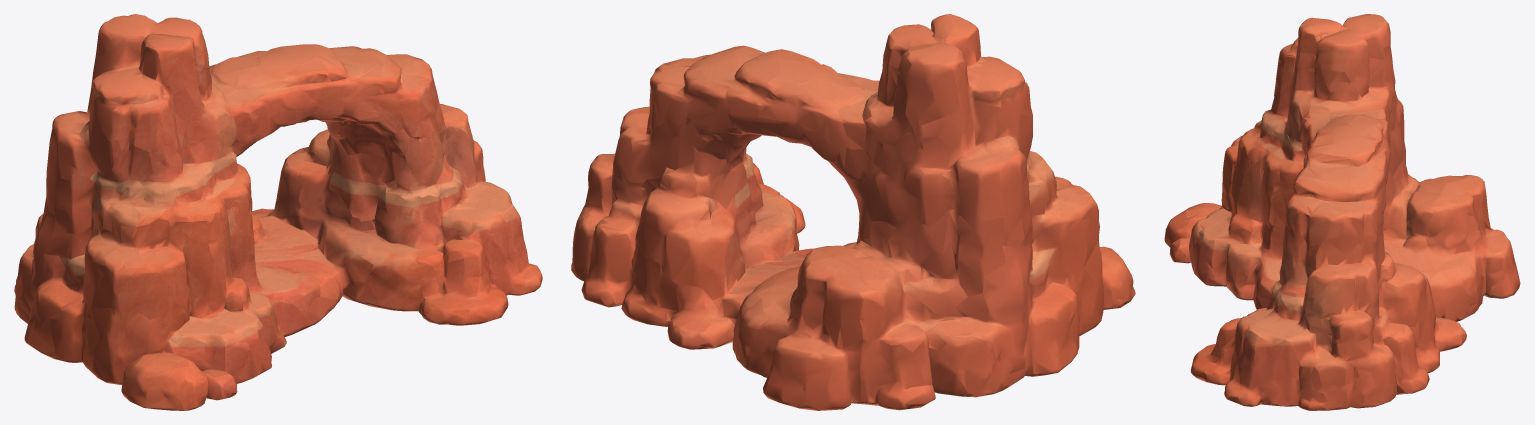
The model's file is canyon-arch.glb.
3 renders of one model, left to right at view 1: azimuth 30°, elevation 25°; view 2: azimuth 150°, elevation 25°; view 3: azimuth 270°, elevation 25°, orthographic. The views are drawn at different scales.
Visible parts, largest first — view 1: mesh_node; view 2: mesh_node; view 3: mesh_node.
Part boxes in pixels (x1=…): mesh_node: x1=14, y1=14, x2=542, y2=410; mesh_node: x1=571, y1=14, x2=1135, y2=410; mesh_node: x1=1164, y1=14, x2=1520, y2=410.
Bounding box in the file's own units: 1.9 × 1.14 × 1.48.
Materials: 1 (1 with a texture image).
